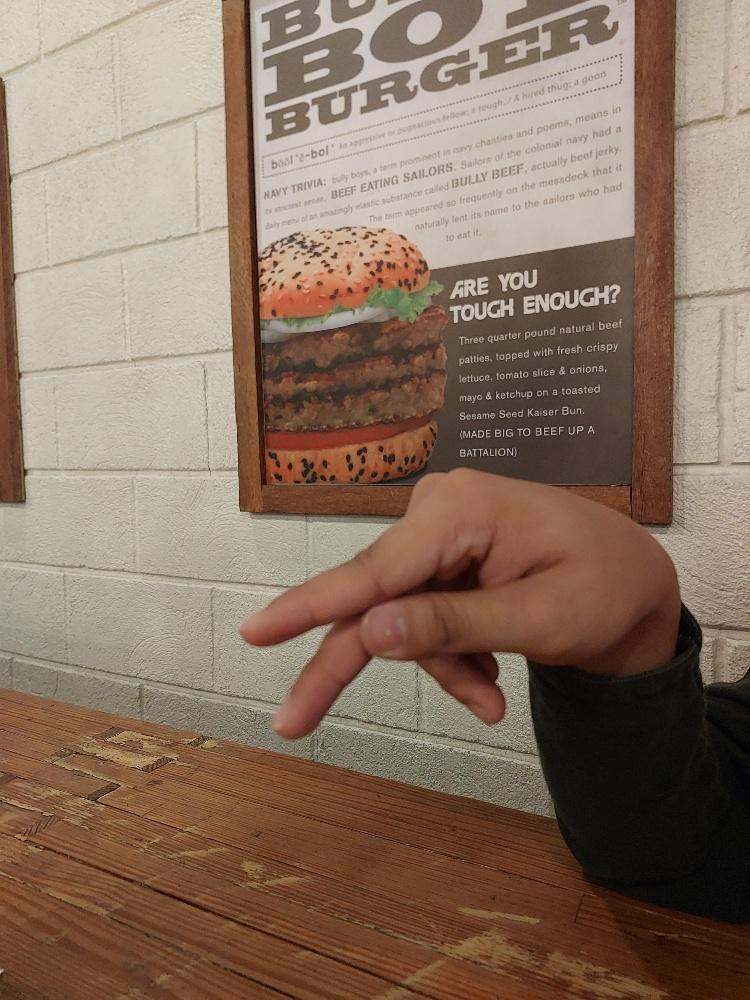p: (233, 462, 654, 741)
